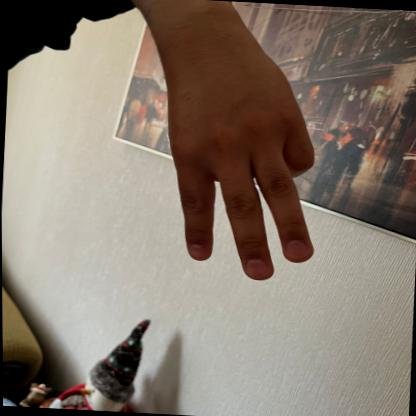M: (139, 30, 335, 288)
